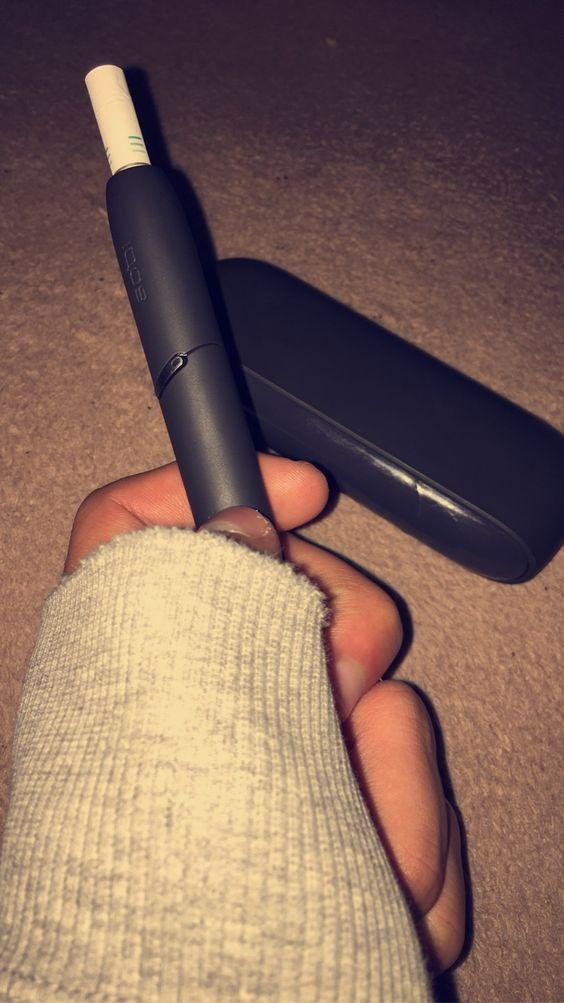iqos: (86, 65, 270, 526)
